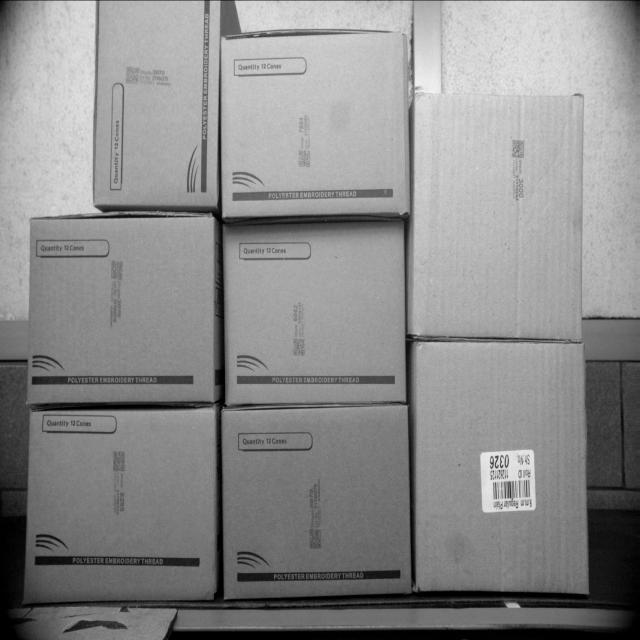box: (412, 96, 582, 344), (416, 350, 589, 592), (25, 217, 218, 410), (220, 401, 412, 592), (28, 410, 220, 600), (222, 220, 403, 411), (224, 38, 405, 215), (94, 1, 214, 212)
